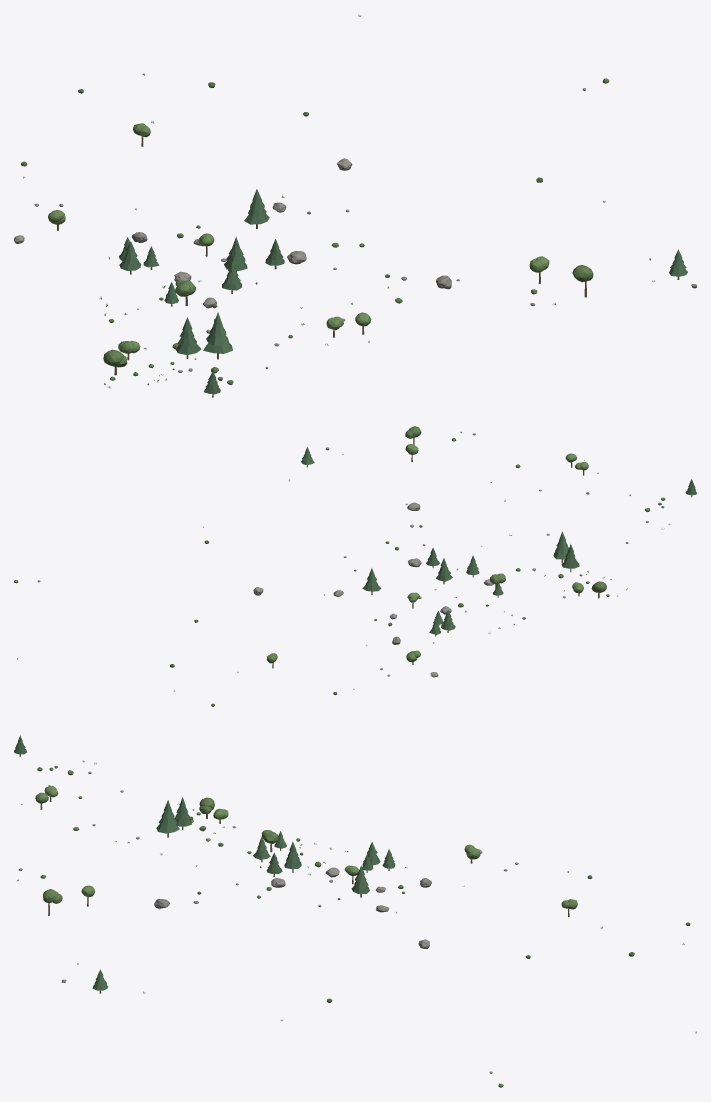
The model's file is arch_land_scatter_c18_17.glb.
The picture shows the model from 3 angles, top to bottom: view 1: azimuth 30°, elevation 25°; view 2: azimuth 150°, elevation 25°; view 3: azimuth 270°, elevation 25°; orthographic projection. The views are drawn at different scales.
Parts seen in each view (by area): view 1: arch_land_scatter_c18_17; view 2: arch_land_scatter_c18_17; view 3: arch_land_scatter_c18_17.
Part boxes in pixels (x1,y1,x2,y2): arch_land_scatter_c18_17: (14, 14, 696, 397); arch_land_scatter_c18_17: (14, 426, 696, 706); arch_land_scatter_c18_17: (14, 735, 696, 1087).
Bounding box in the file's own units: 245 × 36.6 × 257.
